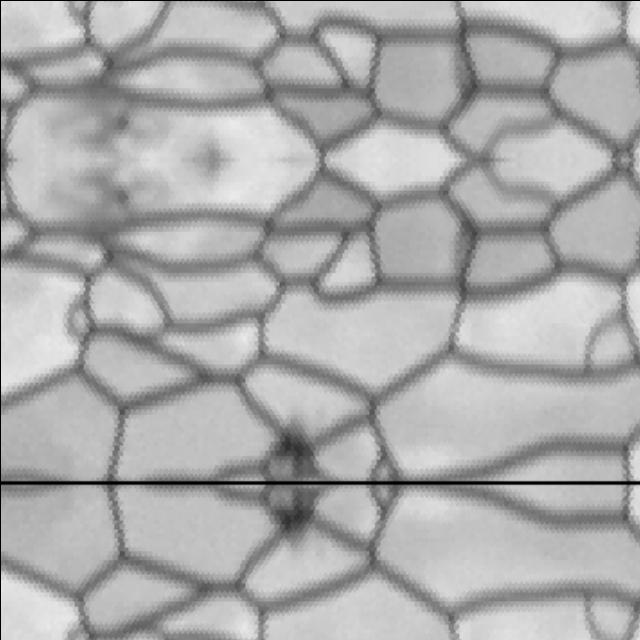good_void: (31, 158, 173, 302), (31, 14, 173, 158), (258, 408, 322, 482), (258, 482, 322, 555)
